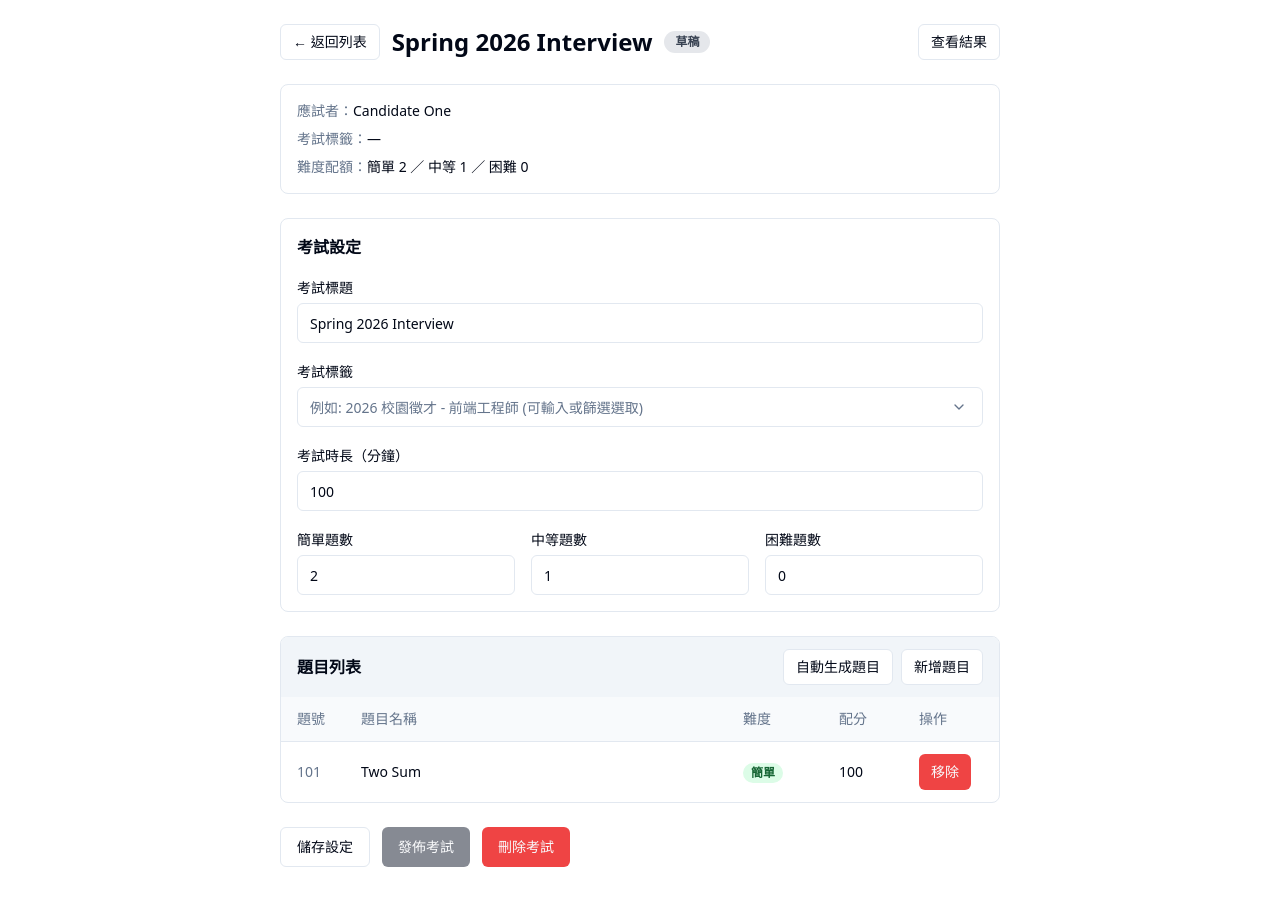
ExamDetailPage › handles bank loading error and details load error in picker
This screenshot has width=1280, height=900.
Expected: the heading "Spring 2026 Interview" is shown, x1=392 y1=26 x2=652 y2=58
What coordinates should you click on to do the following:
click the button "新增題目"
I would click on:
 (942, 667)
Its box is x1=901 y1=649 x2=983 y2=685.
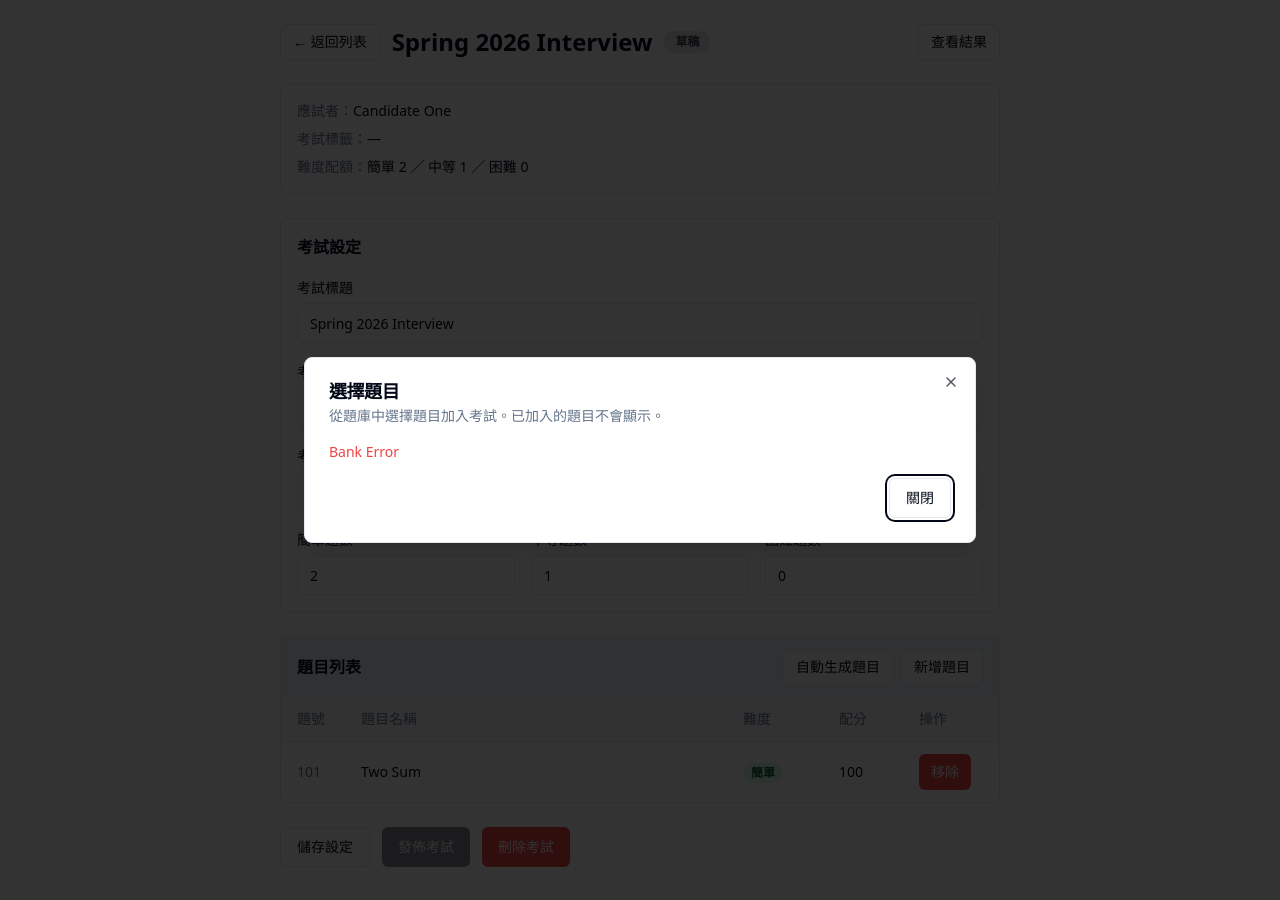
Expected: the text "Bank Error" is shown, x1=329 y1=442 x2=399 y2=461
